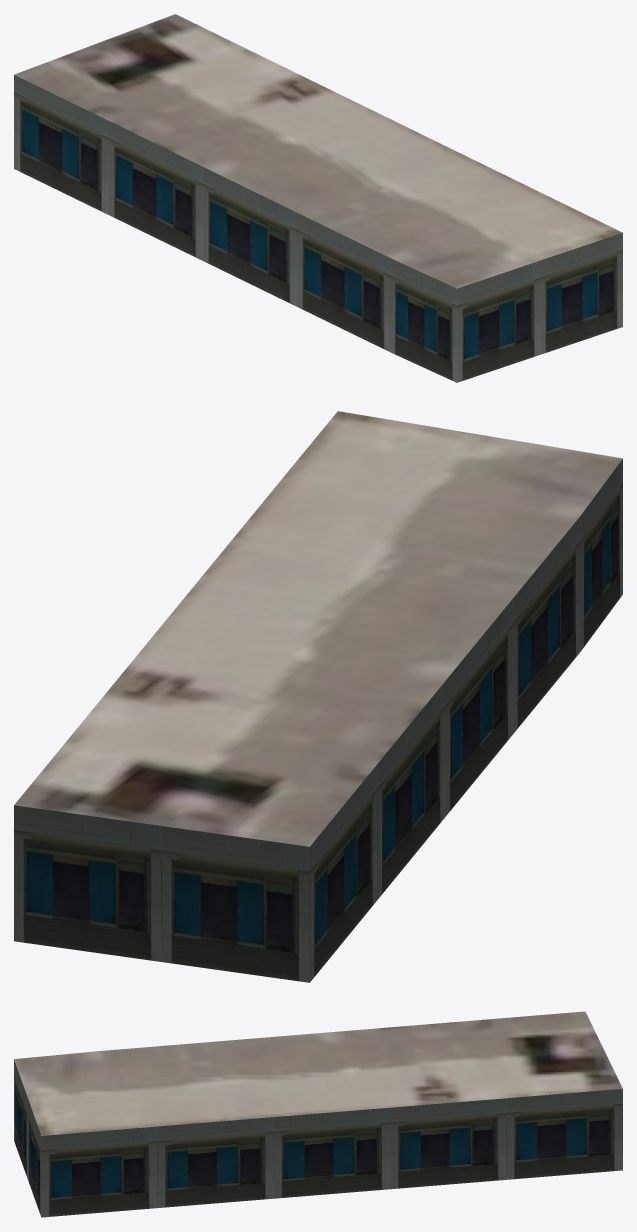
Rendered from T_1SWCG4NVJ7.dae.
The picture shows the model from 3 angles, top to bottom: view 1: azimuth 30°, elevation 25°; view 2: azimuth 150°, elevation 25°; view 3: azimuth 270°, elevation 25°; orthographic projection. The views are drawn at different scales.
Parts seen in each view (by area): view 1: SketchUp (×4); view 2: SketchUp (×4); view 3: SketchUp (×3).
Part boxes in pixels (box(x1,y1,x2,y2)): SketchUp (×4): box(14, 14, 622, 382); SketchUp (×4): box(14, 411, 622, 982); SketchUp (×3): box(14, 1011, 622, 1217).
Size of the model in its own units: 13.48 by 27.87 by 4.12.
Materials: 2 (2 with a texture image).
